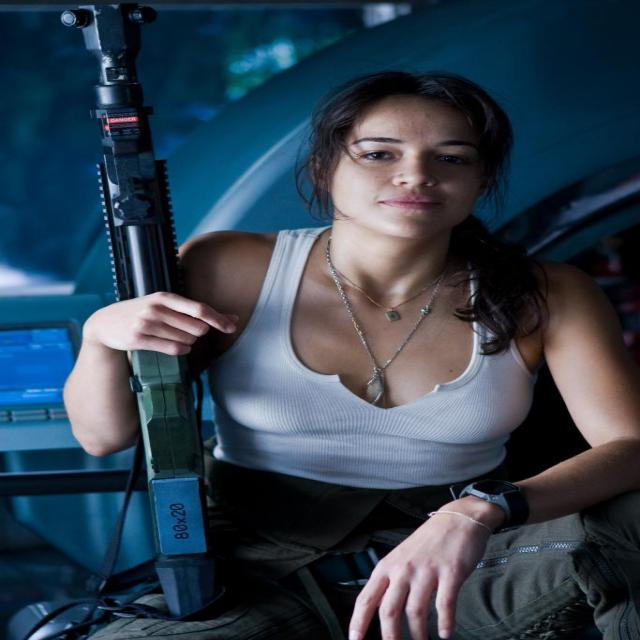Weapon: (37, 11, 345, 640)
